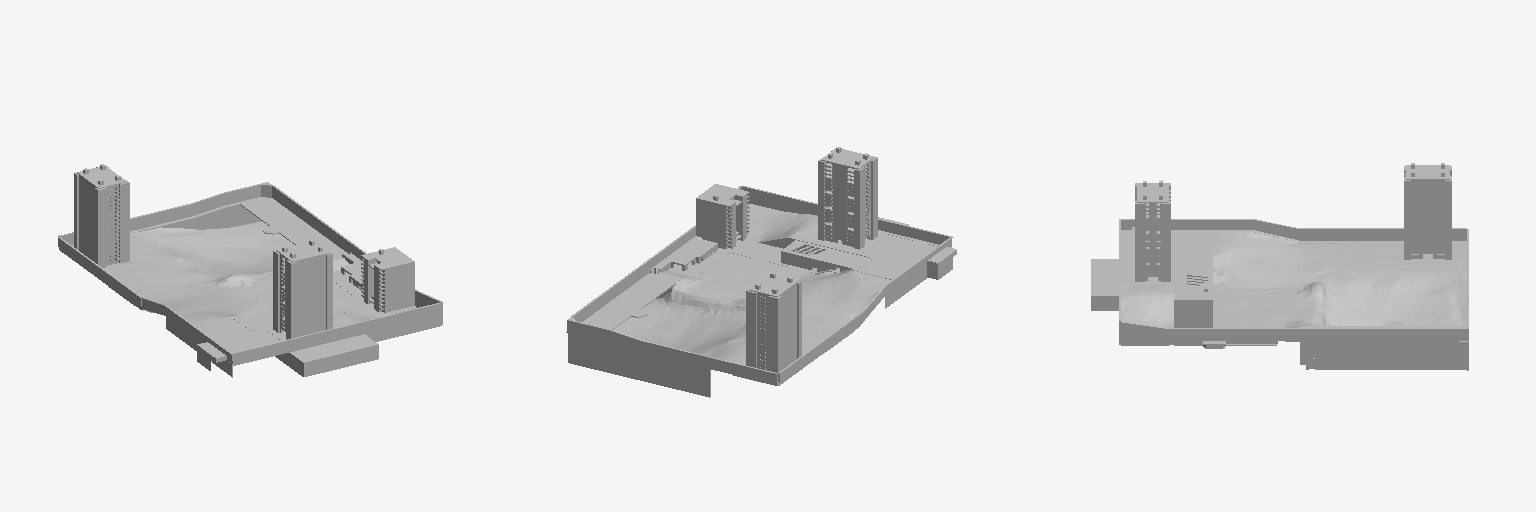
The model's file is MY SUBMESHES-.obj.
3 renders of one model, left to right at view 1: azimuth 30°, elevation 25°; view 2: azimuth 150°, elevation 25°; view 3: azimuth 270°, elevation 25°, orthographic.
Visible parts, largest first — view 1: default; view 2: default; view 3: default.
Boxes of the visible parts, x1,y1,x2,y2 form: default: [58, 164, 442, 377]; default: [566, 147, 956, 397]; default: [1091, 163, 1468, 370].
Size of the model in its own units: 246 by 130 by 350.